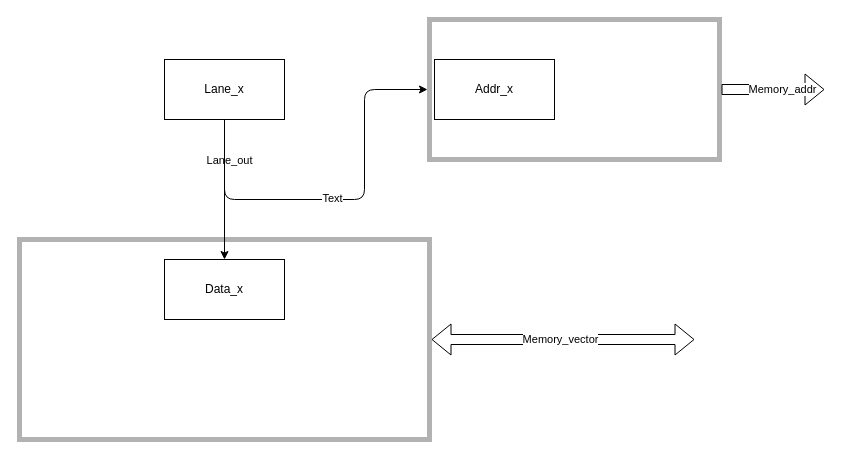
Some shapes in this 842 by 459 pixel diagram are drawn without their labels. The box of each missing label's shape, as (x1, y1, x2, y2) in pixels:
MAR: (426, 16, 722, 162)
MDR: (16, 236, 432, 442)
